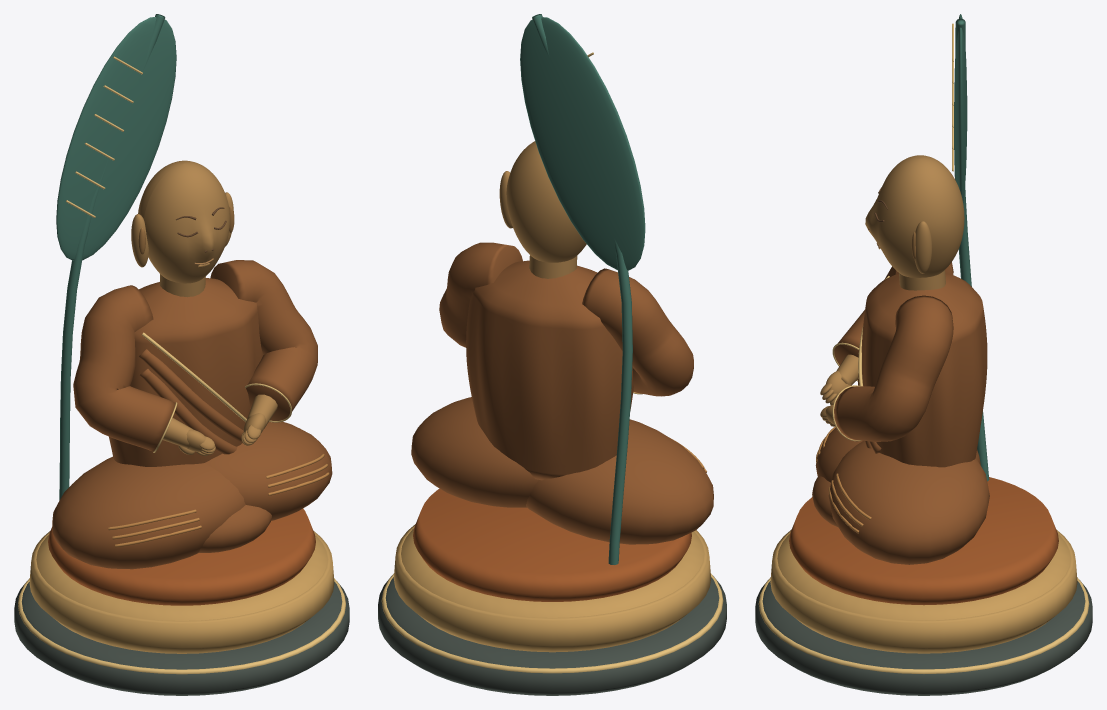
The model's file is arhat_10.glb.
The picture shows the model from 3 angles, left to right: view 1: azimuth 30°, elevation 25°; view 2: azimuth 150°, elevation 25°; view 3: azimuth 270°, elevation 25°; orthographic projection. The views are drawn at different scales.
Parts seen in each view (by area): view 1: arhat_10_ArhatDrapery, arhat_10_JadeAccents, arhat_10_AntiqueGold, arhat_10_CarvedPlinth, arhat_10_WarmBronze, arhat_10_SaffronDrapery, arhat_10_RaisedGoldBorders, arhat_10_DraperyFoldHighlights; view 2: arhat_10_ArhatDrapery, arhat_10_JadeAccents, arhat_10_SaffronDrapery, arhat_10_AntiqueGold, arhat_10_CarvedPlinth, arhat_10_WarmBronze, arhat_10_RaisedGoldBorders; view 3: arhat_10_ArhatDrapery, arhat_10_SaffronDrapery, arhat_10_AntiqueGold, arhat_10_CarvedPlinth, arhat_10_WarmBronze, arhat_10_JadeAccents, arhat_10_RaisedGoldBorders, arhat_10_DraperyFoldHighlights.
Part boxes in pixels (box(x1,y1,x2,y2)): arhat_10_ArhatDrapery: box(52, 260, 332, 569); arhat_10_JadeAccents: box(56, 14, 176, 500); arhat_10_AntiqueGold: box(29, 531, 334, 653); arhat_10_CarvedPlinth: box(14, 581, 349, 695); arhat_10_WarmBronze: box(131, 160, 277, 455); arhat_10_SaffronDrapery: box(48, 508, 315, 605); arhat_10_RaisedGoldBorders: box(18, 56, 345, 674); arhat_10_DraperyFoldHighlights: box(108, 453, 329, 547); arhat_10_ArhatDrapery: box(411, 242, 713, 544); arhat_10_JadeAccents: box(520, 14, 645, 564); arhat_10_SaffronDrapery: box(413, 488, 691, 601); arhat_10_AntiqueGold: box(393, 524, 711, 652); arhat_10_CarvedPlinth: box(378, 576, 726, 695); arhat_10_WarmBronze: box(499, 141, 586, 278); arhat_10_RaisedGoldBorders: box(381, 52, 723, 673); arhat_10_ArhatDrapery: box(812, 262, 989, 564); arhat_10_SaffronDrapery: box(789, 477, 1058, 605); arhat_10_AntiqueGold: box(770, 529, 1077, 653); arhat_10_CarvedPlinth: box(755, 580, 1092, 695); arhat_10_WarmBronze: box(820, 155, 964, 426); arhat_10_JadeAccents: box(954, 14, 989, 481); arhat_10_RaisedGoldBorders: box(758, 23, 1089, 673); arhat_10_DraperyFoldHighlights: box(816, 426, 871, 533).
Size of the model in its own units: 0.92 by 1.83 by 0.92.
